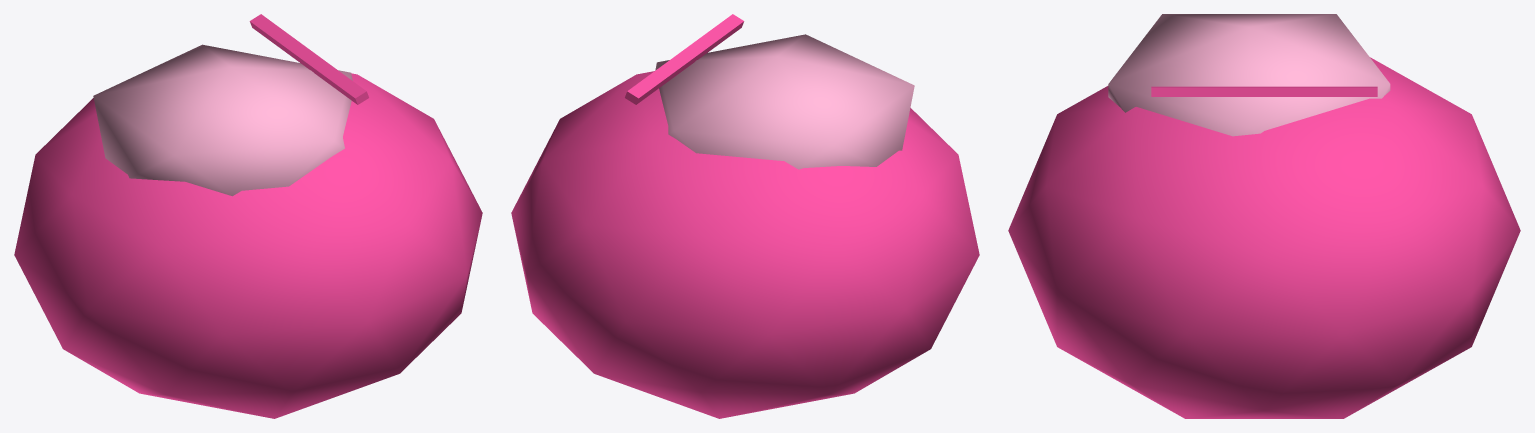
File: station_intake_ausstattung_3_1.glb
The picture shows the model from 3 angles, left to right: view 1: azimuth 30°, elevation 25°; view 2: azimuth 150°, elevation 25°; view 3: azimuth 270°, elevation 25°; orthographic projection. The views are drawn at different scales.
Visible parts, largest first — view 1: station_intake_ausstattung_3_1; view 2: station_intake_ausstattung_3_1; view 3: station_intake_ausstattung_3_1.
Boxes of the visible parts, box(x1,y1,x2,y2) form: station_intake_ausstattung_3_1: box(14, 14, 482, 418); station_intake_ausstattung_3_1: box(511, 14, 979, 418); station_intake_ausstattung_3_1: box(1008, 14, 1520, 418).
Bounding box in the file's own units: 0.6467 × 0.5238 × 0.68.
